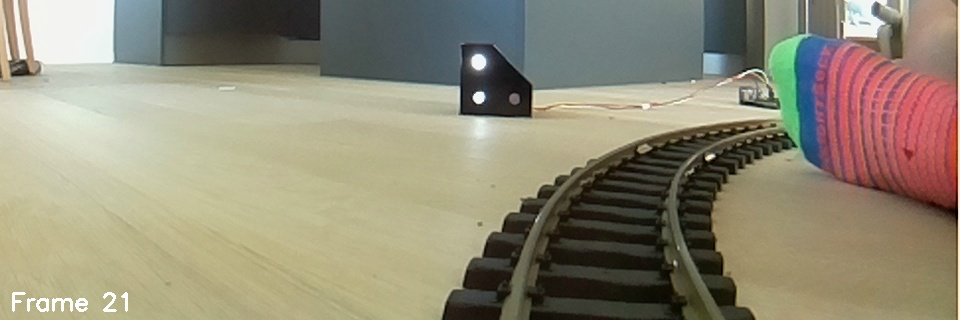Fahrt: (454, 38, 536, 123)
